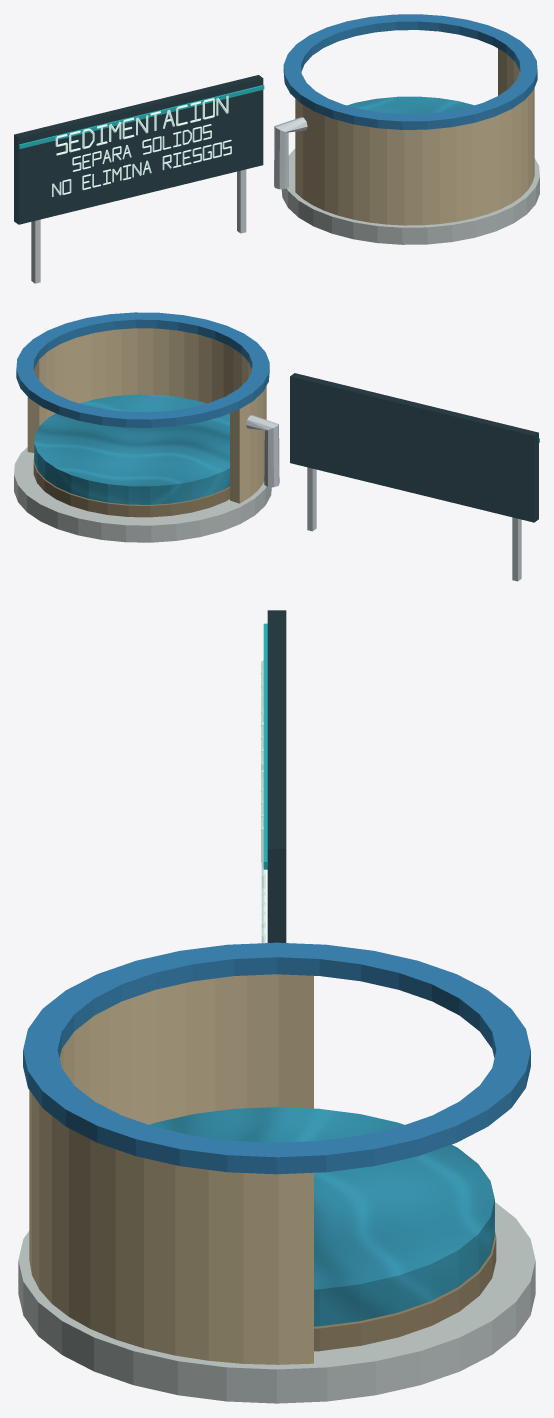
Rendered from AQUA-010.glb.
The picture shows the model from 3 angles, top to bottom: view 1: azimuth 30°, elevation 25°; view 2: azimuth 150°, elevation 25°; view 3: azimuth 270°, elevation 25°; orthographic projection. The views are drawn at different scales.
Visible parts, largest first — view 1: AQUA-010; view 2: AQUA-010; view 3: AQUA-010.
Part boxes in pixels (<box>): AQUA-010: <box>14,14,539,283</box>; AQUA-010: <box>14,312,539,581</box>; AQUA-010: <box>18,610,535,1403</box>.
Size of the model in its own units: 7.45 by 2.11 by 3.3.
Materials: 9 (1 with a texture image).
